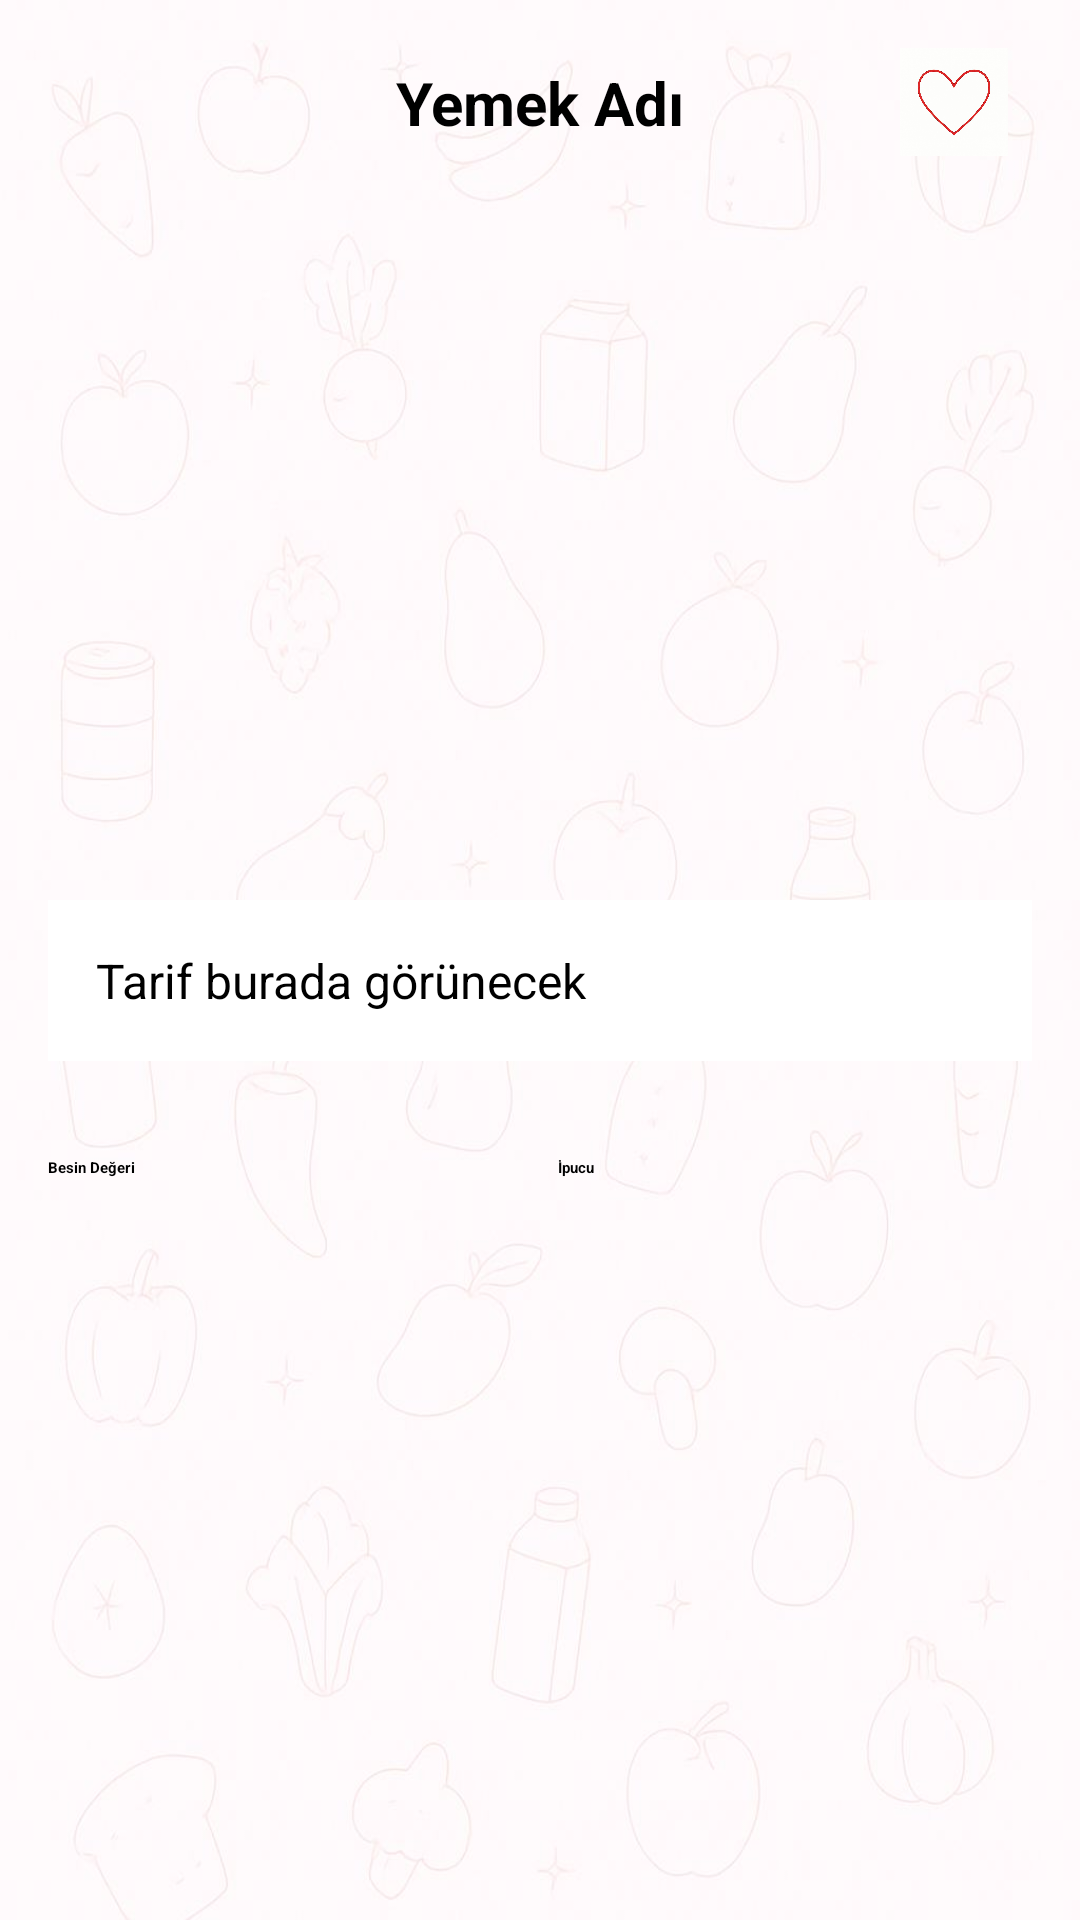

Icon click points for this 1080px x 1920px phone screenshot, format (x,y):
boskalp: (954,102)
